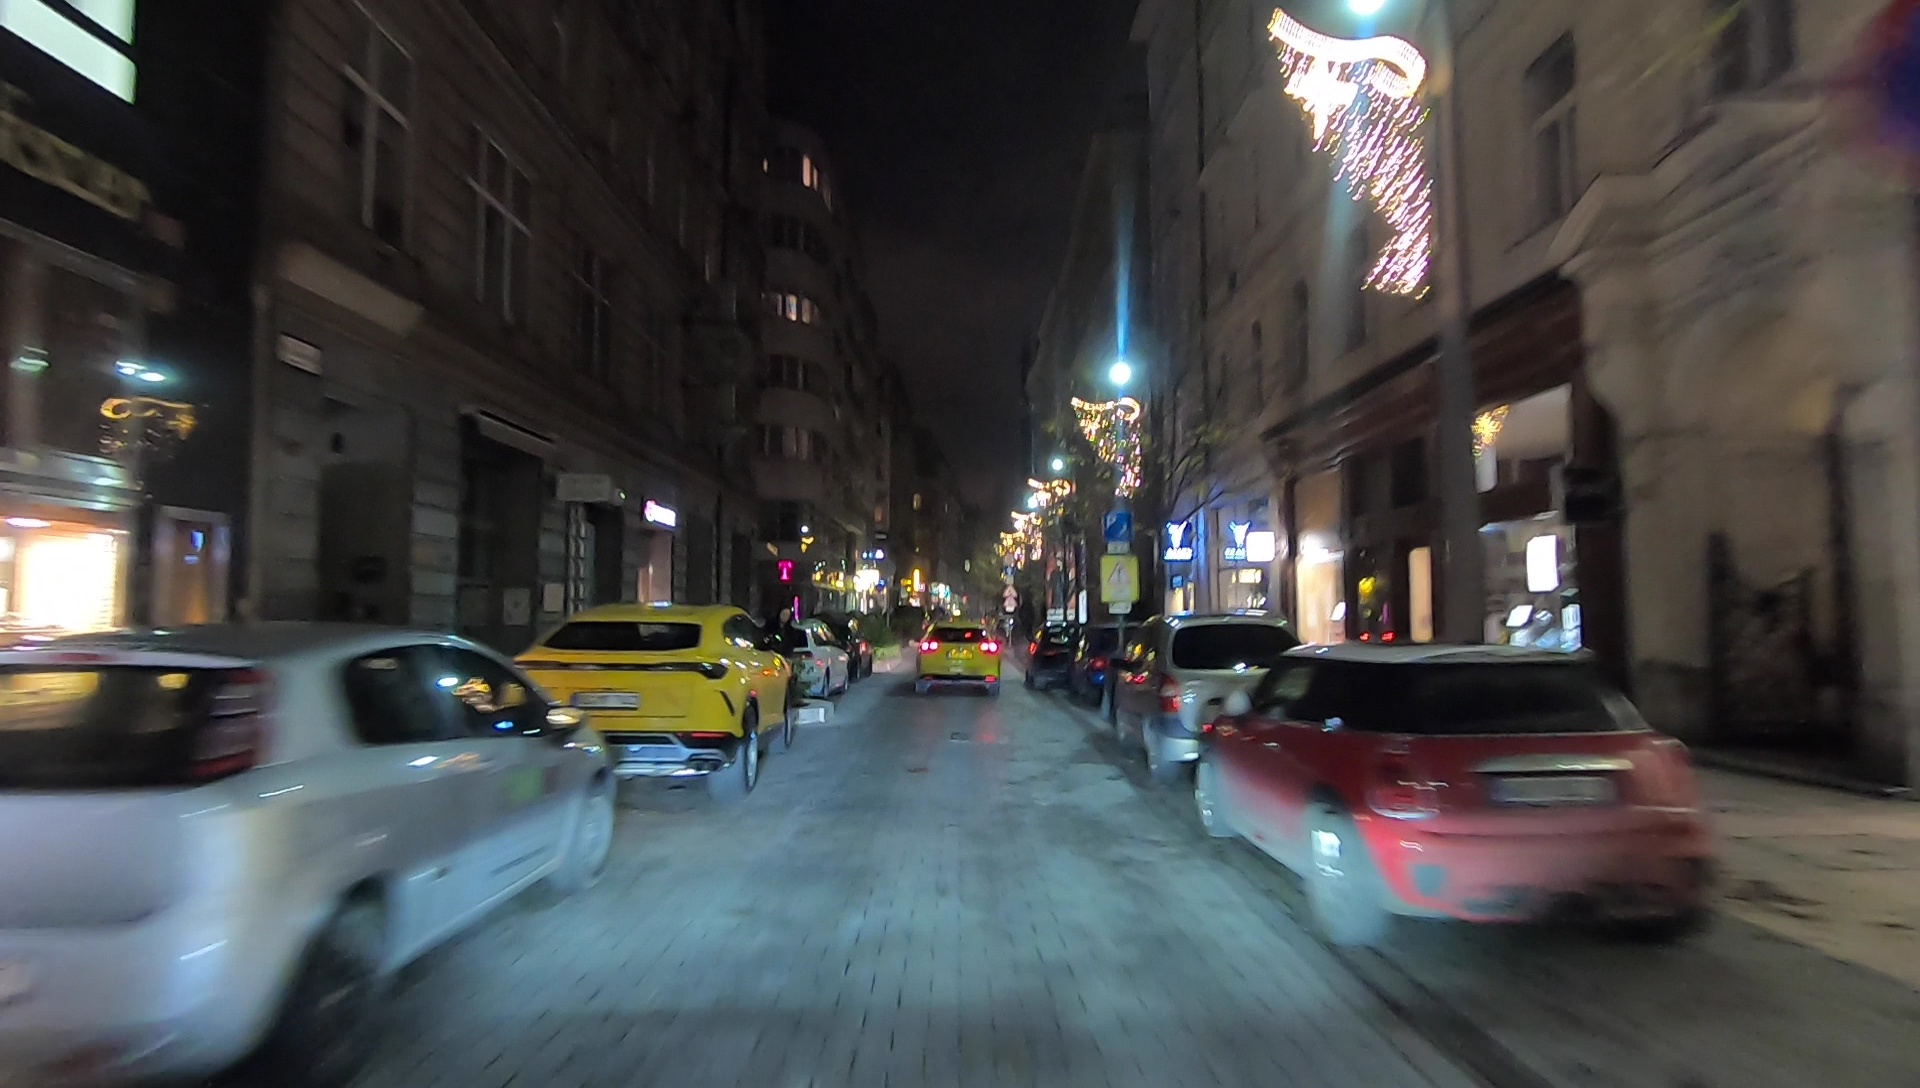person: (767, 609, 796, 731)
